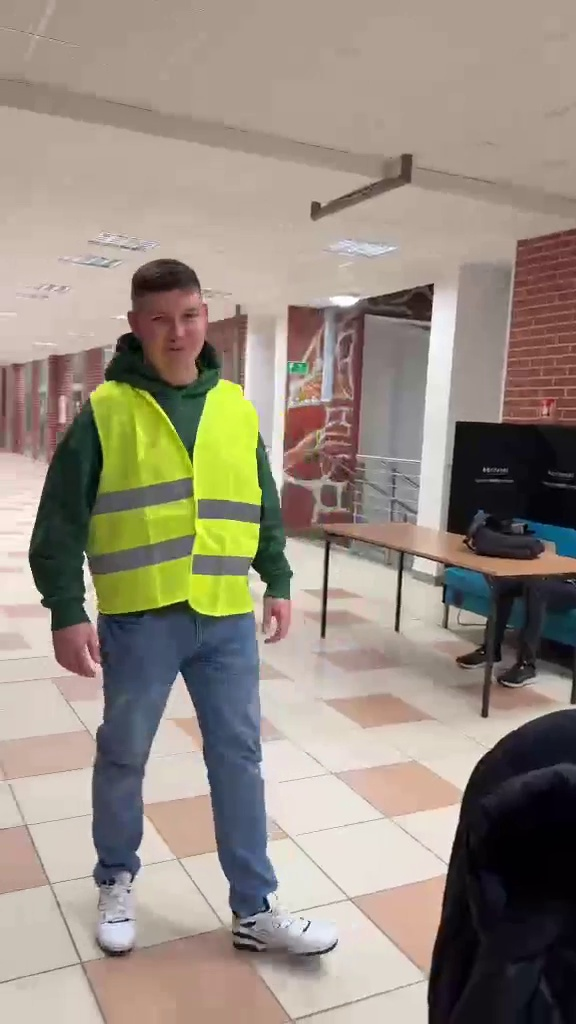vest: (31, 259, 344, 971)
